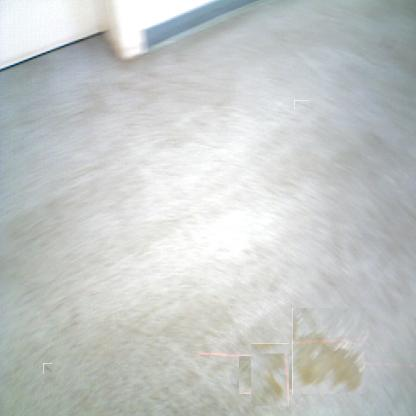liquid: (292, 308, 365, 394), (245, 350, 296, 400)
mark: (294, 100, 309, 109), (43, 363, 52, 374)
